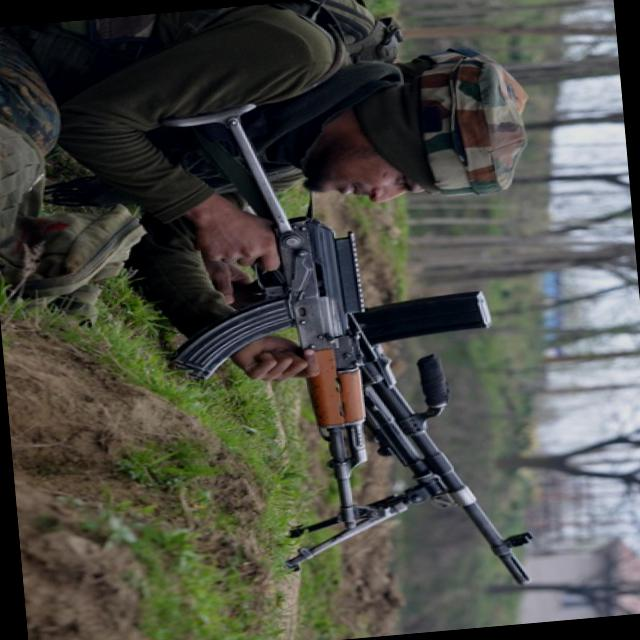long weapon: (243, 253, 552, 607), (161, 205, 393, 568)
